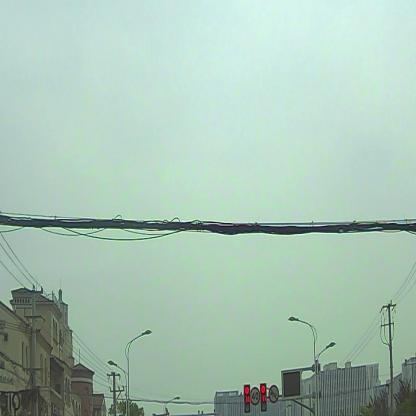Red Light: (244, 384, 252, 412), (260, 382, 267, 411)
